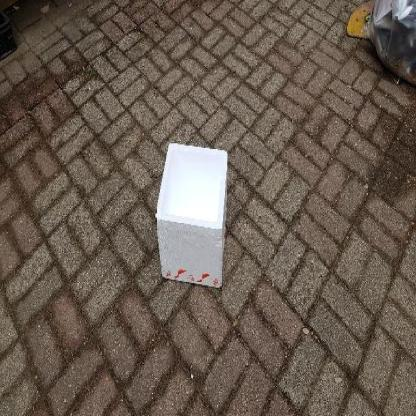Glass Cup: (156, 142, 228, 290), (155, 143, 228, 288)
